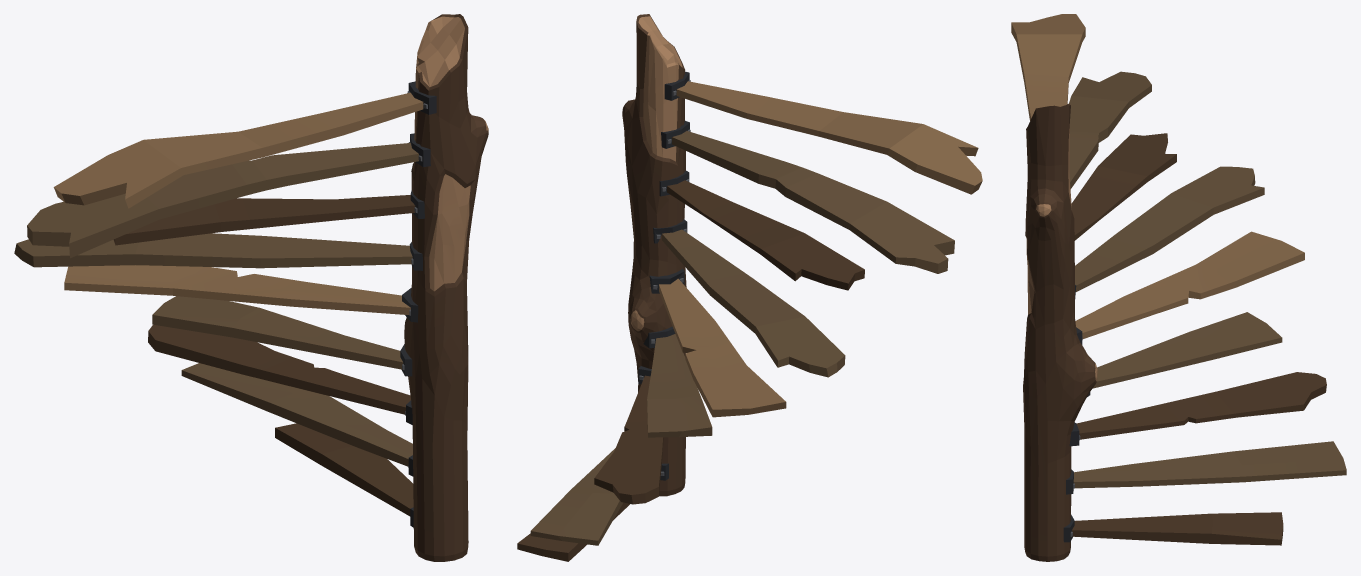
The model's file is SM_Spiral_Steps_Broken_Lvl_2.glb.
3 renders of one model, left to right at view 1: azimuth 30°, elevation 25°; view 2: azimuth 150°, elevation 25°; view 3: azimuth 270°, elevation 25°, orthographic. The views are drawn at different scales.
Parts seen in each view (by area): view 1: SM_Spiral_Steps_Broken_Lvl_2; view 2: SM_Spiral_Steps_Broken_Lvl_2; view 3: SM_Spiral_Steps_Broken_Lvl_2.
Part boxes in pixels (bbox=[...]): SM_Spiral_Steps_Broken_Lvl_2: bbox=[14, 14, 488, 561]; SM_Spiral_Steps_Broken_Lvl_2: bbox=[517, 14, 982, 561]; SM_Spiral_Steps_Broken_Lvl_2: bbox=[1011, 14, 1346, 561].
Bounding box in the file's own units: 1.45 × 1.77 × 1.18.
Materials: 1 (1 with a texture image).
